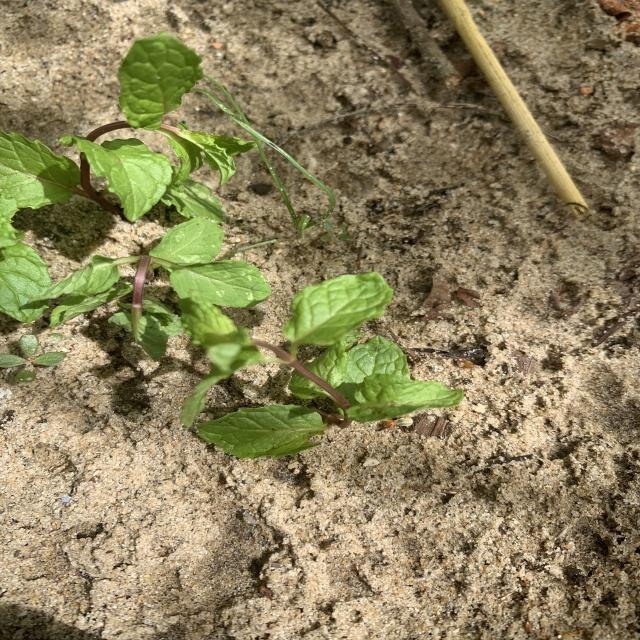crop: (179, 272, 463, 458), (3, 36, 253, 221), (39, 217, 270, 361)
weed: (197, 75, 336, 239), (0, 334, 65, 383), (320, 222, 351, 242)
